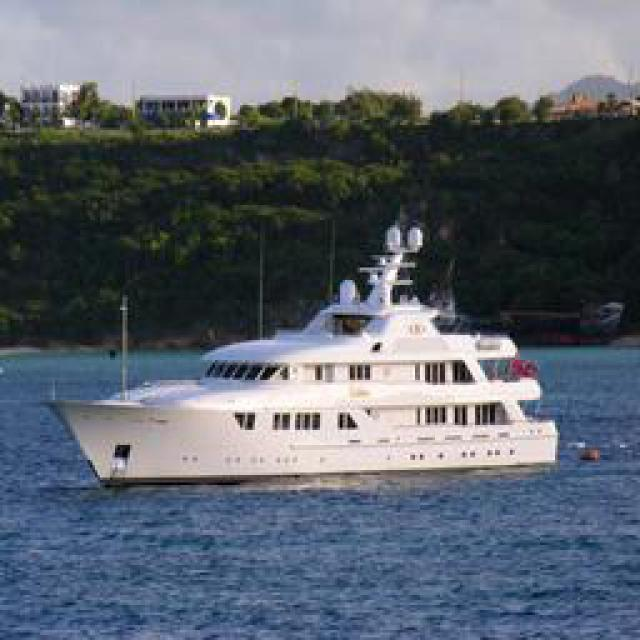Ship: (50, 242, 563, 490)
